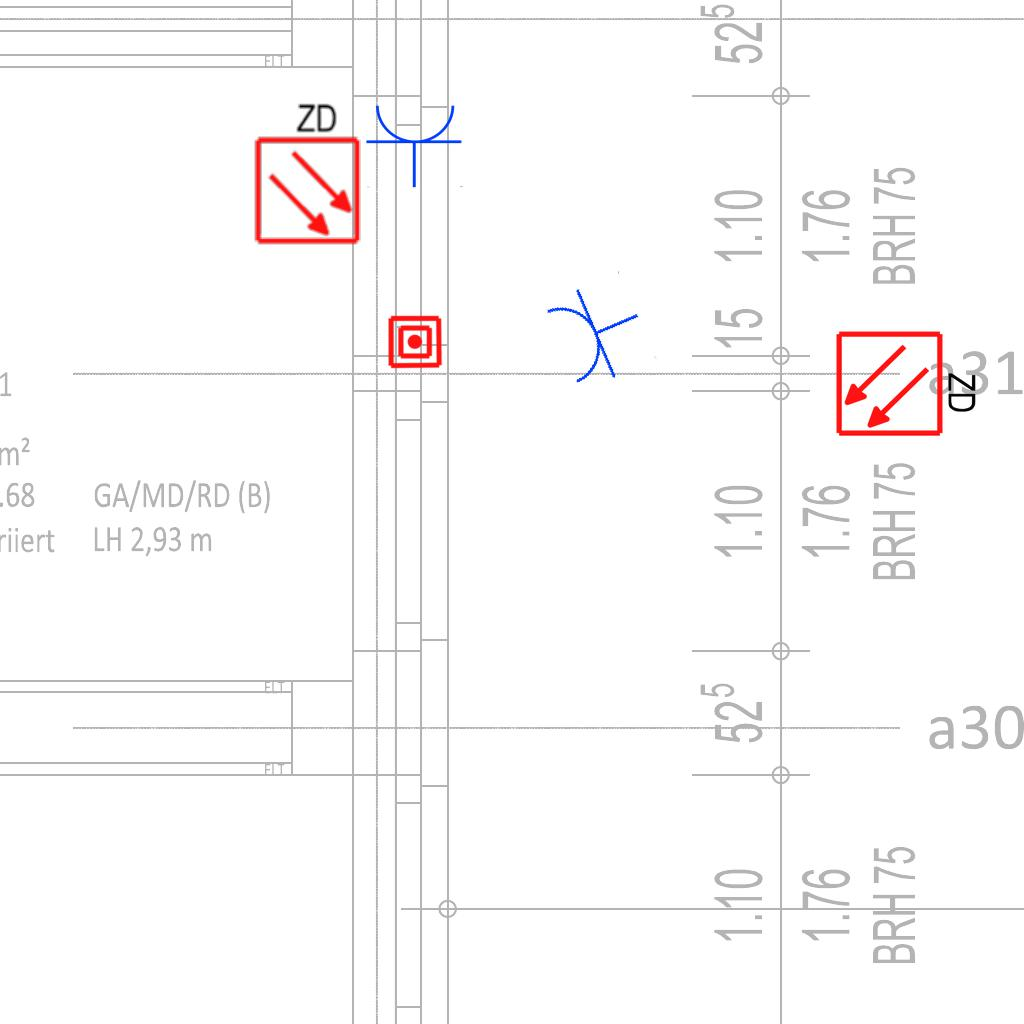NAM-Nichtautomatischer_Melder: (387, 314, 443, 370)
Schukosteckdose_einfach: (538, 268, 658, 395), (365, 101, 465, 188)
ZD_Melder_in_Zwischendecke_mit_Revisionsoeffnung_mind_40_x_40_cm: (834, 325, 983, 439), (249, 97, 363, 246)
